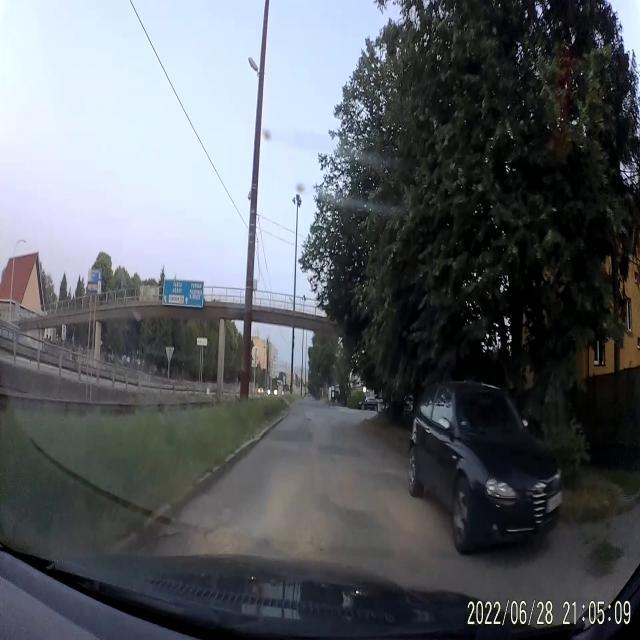Pothole: (198, 518, 254, 556)
